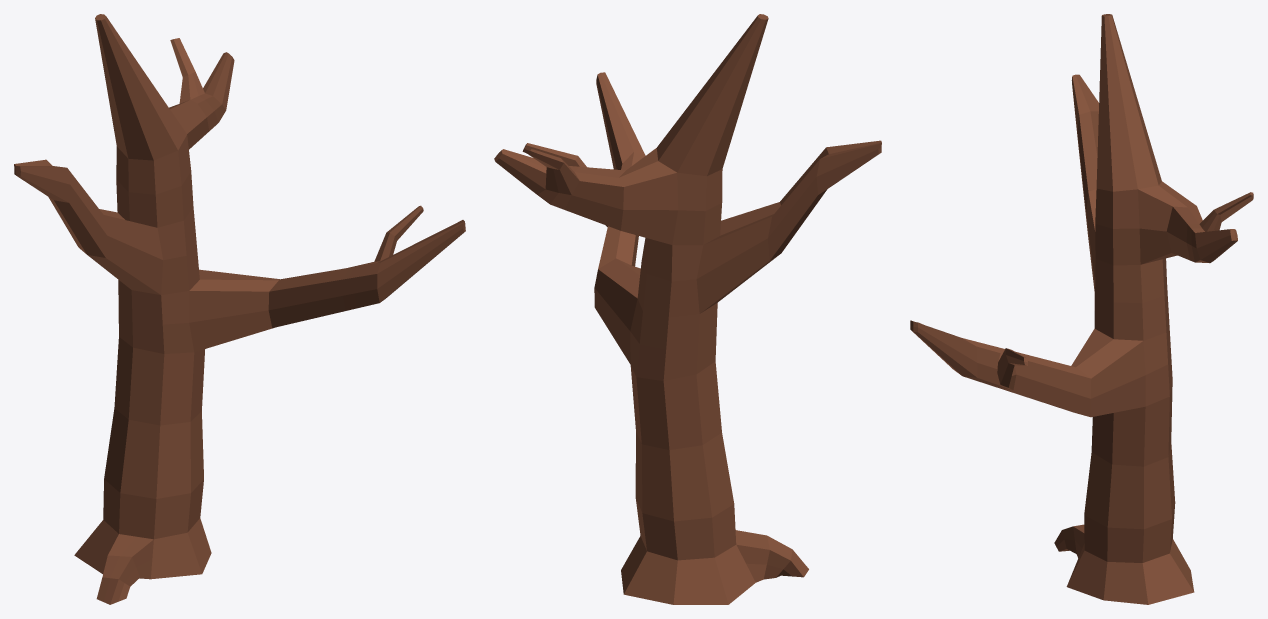
The model's file is Arbol Pelado.fbx.
3 renders of one model, left to right at view 1: azimuth 30°, elevation 25°; view 2: azimuth 150°, elevation 25°; view 3: azimuth 270°, elevation 25°, orthographic. The views are drawn at different scales.
Visible parts, largest first — view 1: Arbol Pelado; view 2: Arbol Pelado; view 3: Arbol Pelado.
Boxes of the visible parts, x1=… form: Arbol Pelado: x1=14, y1=14, x2=465, y2=604; Arbol Pelado: x1=494, y1=14, x2=881, y2=604; Arbol Pelado: x1=910, y1=14, x2=1253, y2=604.
Size of the model in its own units: 340 by 481 by 278.
